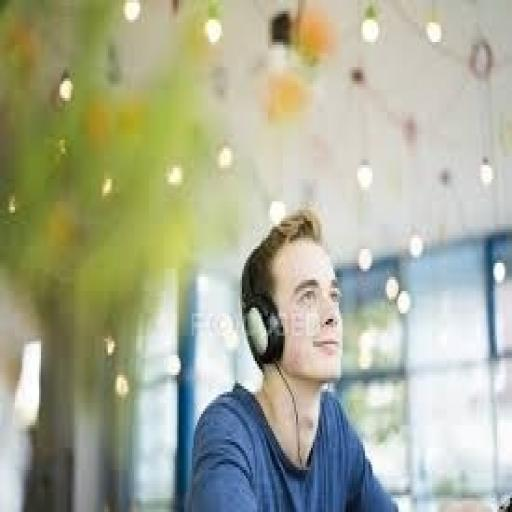listening_to_music: (182, 204, 400, 509)
